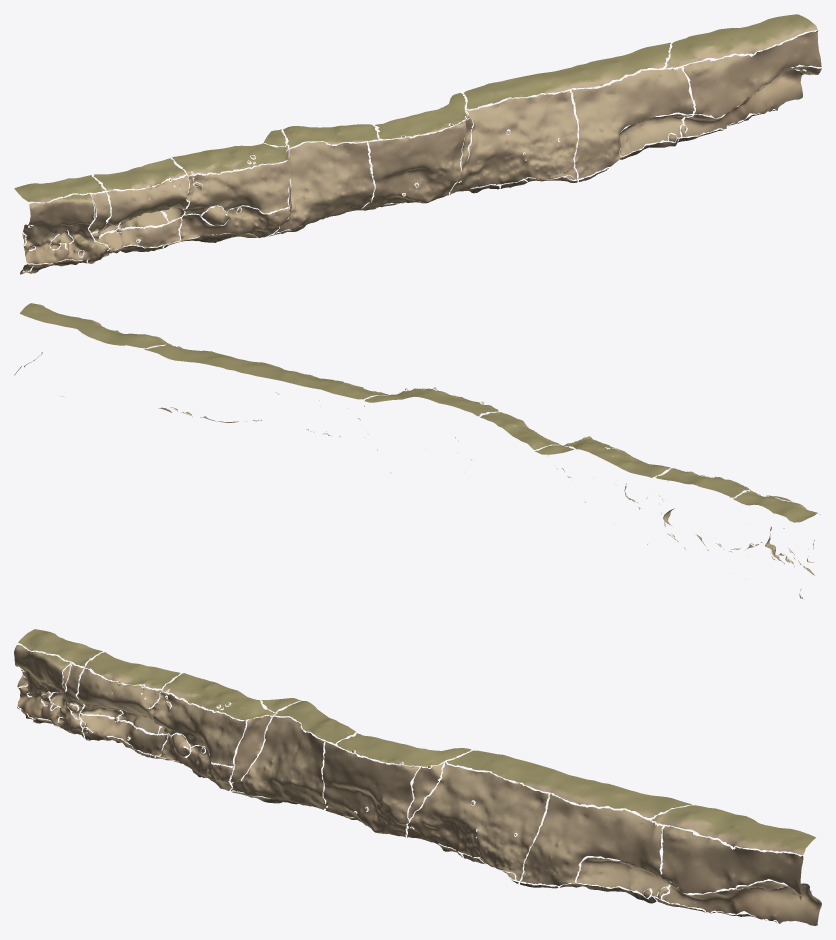
The model's file is SRC_coastal_cliff_01.glb.
The picture shows the model from 3 angles, top to bottom: view 1: azimuth 30°, elevation 25°; view 2: azimuth 150°, elevation 25°; view 3: azimuth 330°, elevation 25°; orthographic projection. The views are drawn at different scales.
Parts seen in each view (by area): view 1: SRC_coastal_cliff_01; view 2: SRC_coastal_cliff_01; view 3: SRC_coastal_cliff_01.
Boxes of the visible parts, x1,y1,x2,y2 form: SRC_coastal_cliff_01: (14, 14, 821, 274); SRC_coastal_cliff_01: (14, 303, 819, 598); SRC_coastal_cliff_01: (14, 629, 821, 925).
Bounding box in the file's own units: 91.82 × 10.21 × 10.74.
